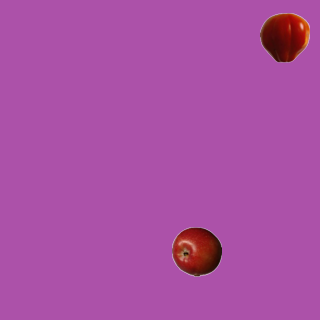Apple Braeburn: (171, 226, 221, 276)
Tomato 1: (259, 12, 309, 62)
